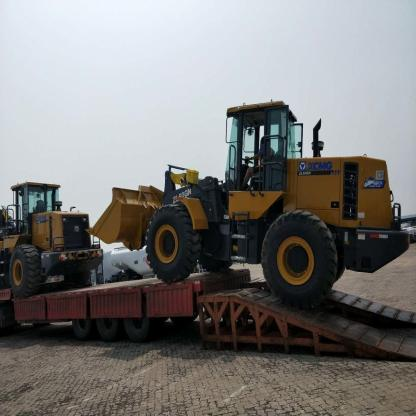bull_dozer/loader/grader: (89, 90, 412, 312), (0, 167, 104, 300)
